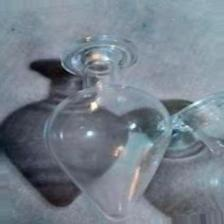Pear shaped flask: (48, 40, 166, 223)
